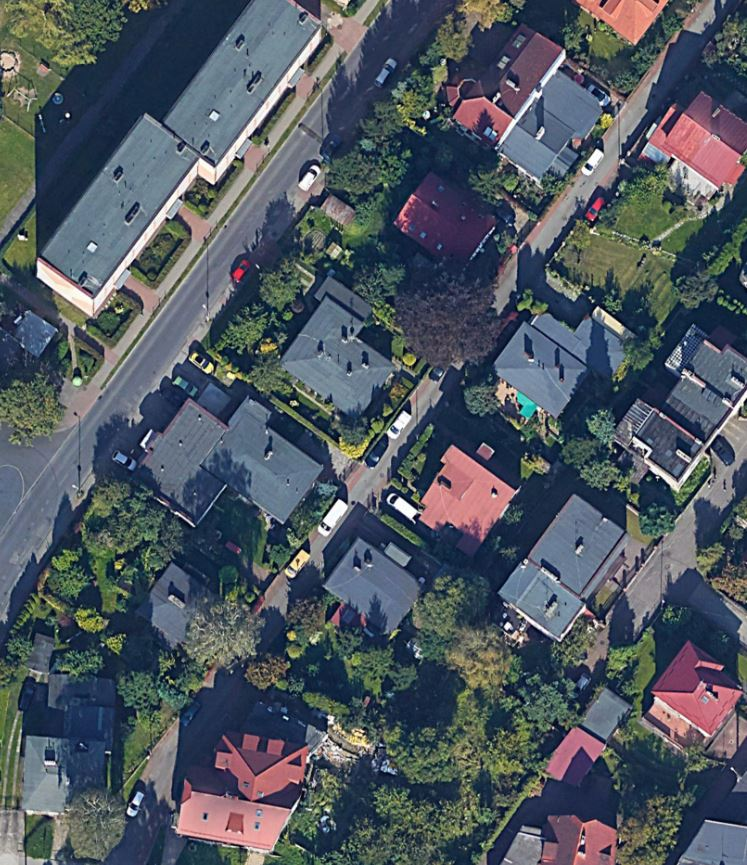block of flats: (28, 1, 328, 324)
family house: (117, 386, 321, 534), (436, 13, 600, 191), (606, 317, 747, 498), (489, 485, 636, 648), (9, 654, 135, 827), (161, 722, 323, 852), (484, 295, 645, 424), (272, 275, 400, 420), (403, 440, 525, 563), (385, 162, 511, 276), (639, 81, 746, 200), (641, 635, 747, 753), (318, 529, 427, 642), (513, 806, 629, 865)
garage: (520, 679, 637, 791)
